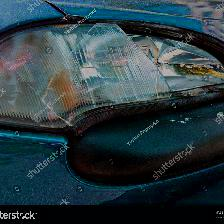head_lamp: (53, 18, 204, 115)
